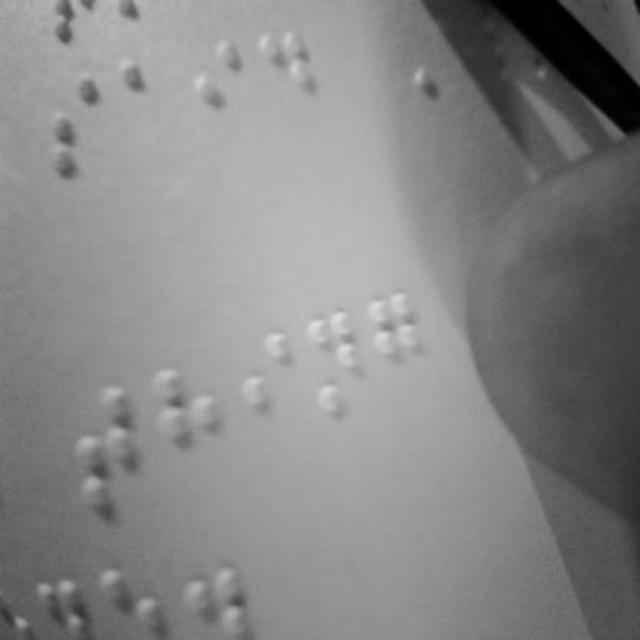braiile: (74, 378, 152, 518), (154, 363, 226, 487), (302, 308, 366, 442), (234, 327, 296, 451), (37, 72, 101, 184), (368, 286, 426, 408), (182, 33, 242, 139), (256, 23, 316, 129), (116, 50, 170, 154)
